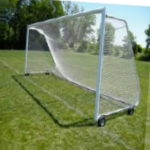goals: (24, 5, 143, 120)
